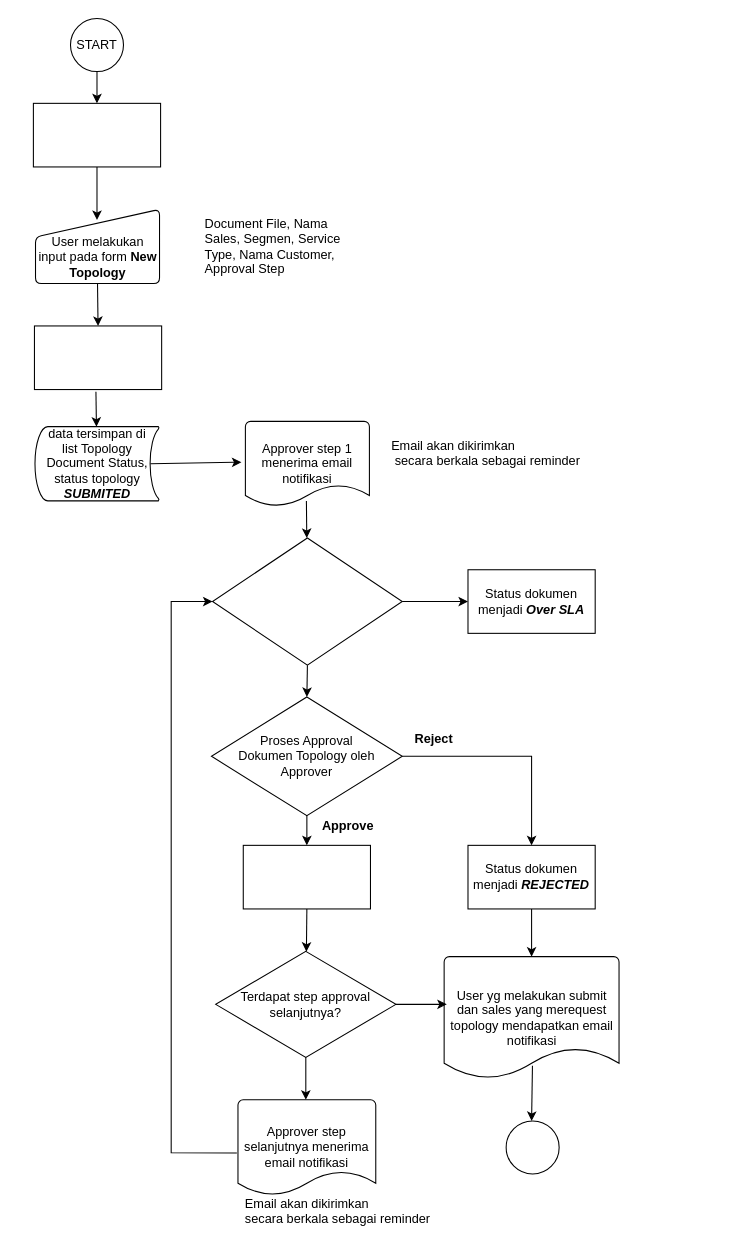
This 747x1247 diagram has some shape labels left out. Each missing label, with the centre of its shape:
"Approver melakukan approval sebelum 3 jam sejak topologi di submit" goes at point 306,601.
"FINISH" goes at point 532,1147.
"Status dokumen menjadi APPROVED" goes at point 306,876.
"User memilih menu New Topology Document" goes at point 96,134.
"User men- submit dokumen topologi" goes at point 97,357.
